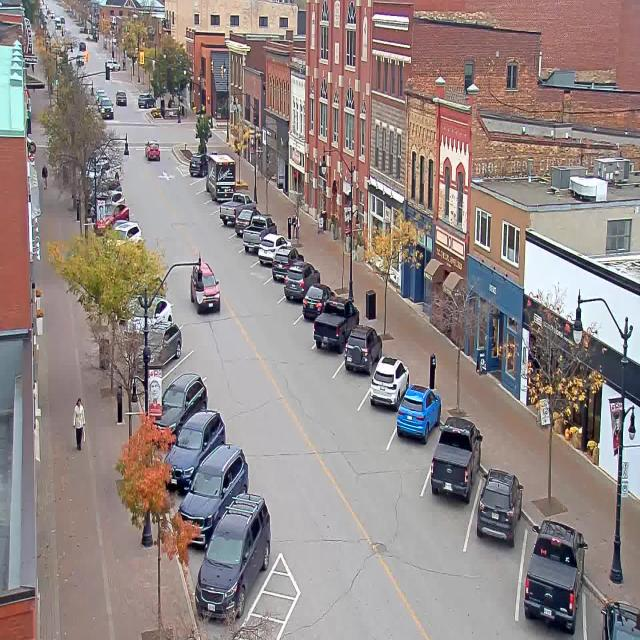available: (163, 345, 211, 387)
occupied: (194, 491, 271, 621), (176, 442, 249, 548), (523, 518, 588, 634), (162, 408, 226, 492), (430, 416, 482, 503), (152, 371, 208, 445), (476, 467, 524, 546), (592, 571, 640, 639), (396, 383, 441, 444), (313, 296, 359, 353), (369, 354, 410, 410), (344, 323, 382, 374), (284, 260, 320, 302), (207, 155, 239, 200), (302, 282, 334, 320), (272, 241, 297, 284), (219, 190, 247, 226), (243, 216, 270, 253), (260, 232, 281, 268), (189, 153, 209, 178), (237, 208, 254, 235)
